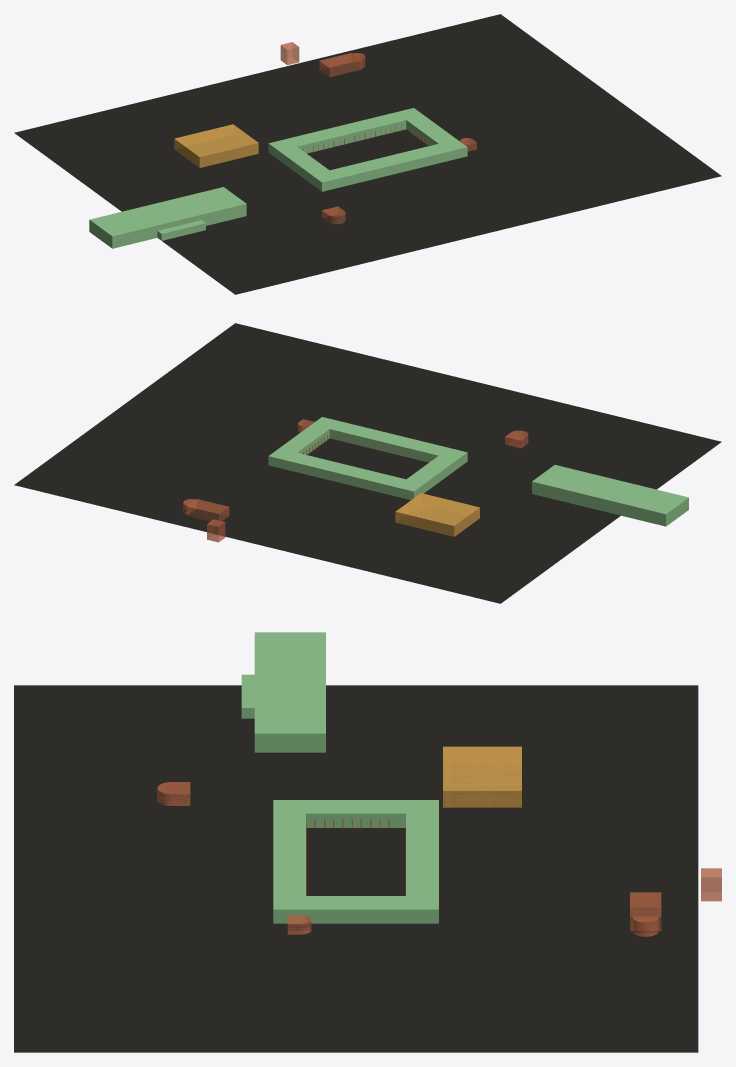
The model's file is medijana.glb.
3 views of the same model, one above another, from view 1: azimuth 30°, elevation 25°; view 2: azimuth 150°, elevation 25°; view 3: azimuth 270°, elevation 25° (orthographic). The views are drawn at different scales.
Parts seen in each view (by area): view 1: G-TEREN, G-HORREUM, G-VILA_0, G-VILA_1, G-TERME, G-VILA_2, G-VILA_3, G-CRKVA-S, G-HORREUM-TREM; view 2: G-TEREN, G-HORREUM, G-VILA_1, G-VILA_0, G-TERME, G-VILA_2, G-VILA_3, G-CRKVA-S; view 3: G-TEREN, G-HORREUM, G-TERME, G-VILA_1, G-VILA_0, G-VILA_2, G-VILA_3, G-CRKVA-S, G-STIBADIJUM, G-KASTELUM.
Part boxes in pixels (x1,y1,x2,y2): G-TEREN: [14, 14, 721, 294]; G-HORREUM: [89, 187, 246, 248]; G-VILA_0: [311, 139, 467, 191]; G-VILA_1: [268, 108, 423, 159]; G-TERME: [174, 124, 258, 167]; G-VILA_2: [279, 147, 328, 183]; G-VILA_3: [406, 115, 456, 145]; G-CRKVA-S: [319, 53, 361, 76]; G-HORREUM-TREM: [157, 220, 205, 240]; G-TEREN: [14, 323, 721, 603]; G-HORREUM: [532, 465, 688, 526]; G-VILA_1: [268, 448, 424, 499]; G-VILA_0: [312, 417, 467, 468]; G-TERME: [395, 493, 479, 536]; G-VILA_2: [407, 456, 456, 492]; G-VILA_3: [279, 424, 329, 454]; G-CRKVA-S: [186, 499, 229, 521]; G-TEREN: [14, 685, 698, 1052]; G-HORREUM: [254, 632, 325, 752]; G-TERME: [443, 746, 521, 807]; G-VILA_1: [406, 800, 438, 923]; G-VILA_0: [273, 800, 305, 923]; G-VILA_2: [306, 800, 405, 827]; G-VILA_3: [306, 896, 405, 923]; G-CRKVA-S: [630, 892, 661, 931]; G-STIBADIJUM: [157, 782, 190, 805]; G-KASTELUM: [701, 868, 721, 901].
Bounding box in the file's own units: 360 × 10.8 × 269.
